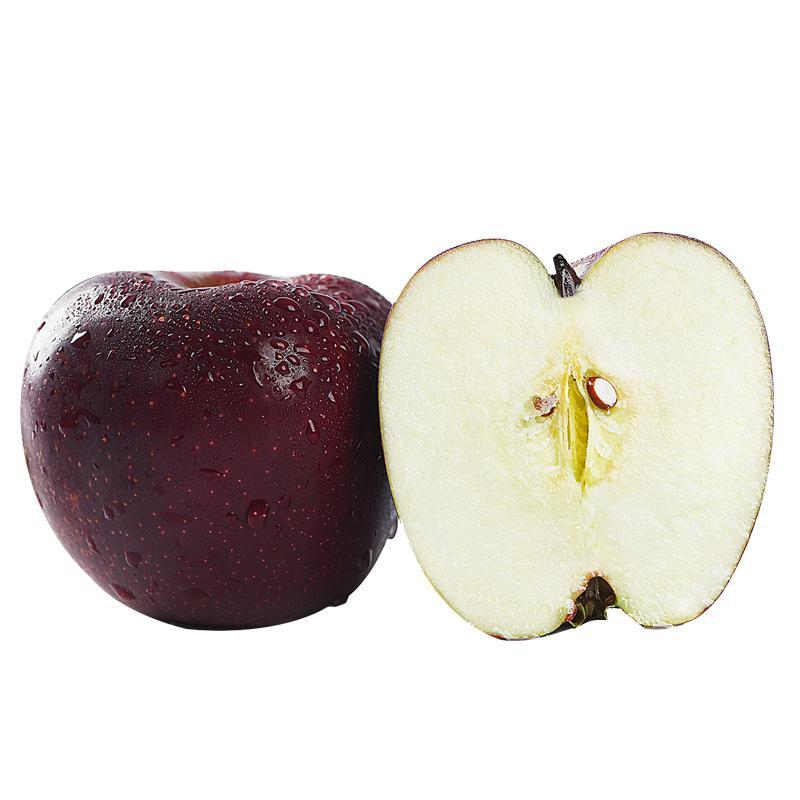apple: (372, 236, 777, 641), (19, 270, 395, 637)
